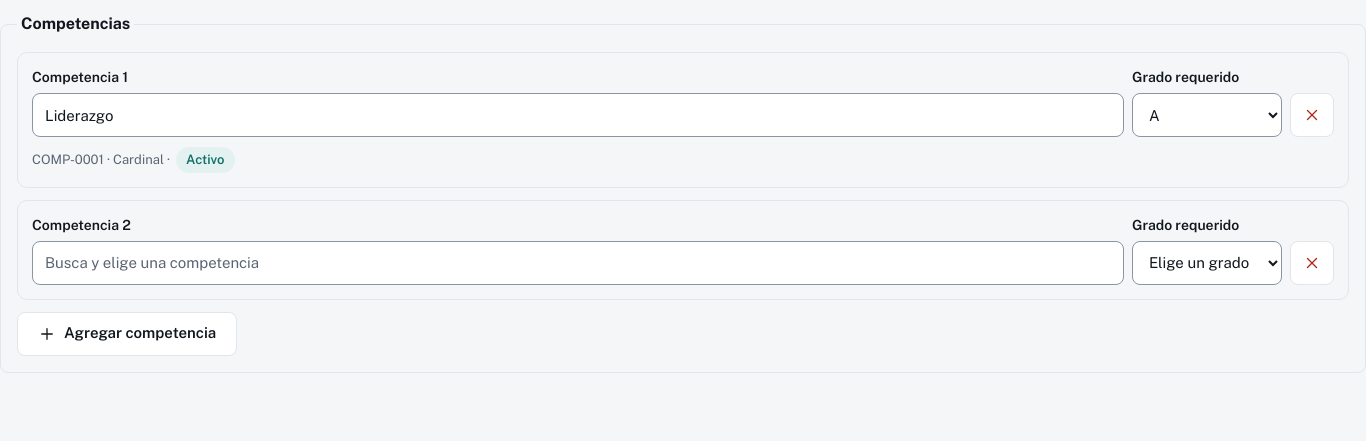
Scenario: CompetenciasFieldset › solo ofrece competencias activas que aún no están en el puesto
Click the dropdown labelled "Competencia 2" at (578, 262), box [32,240,1124,284]
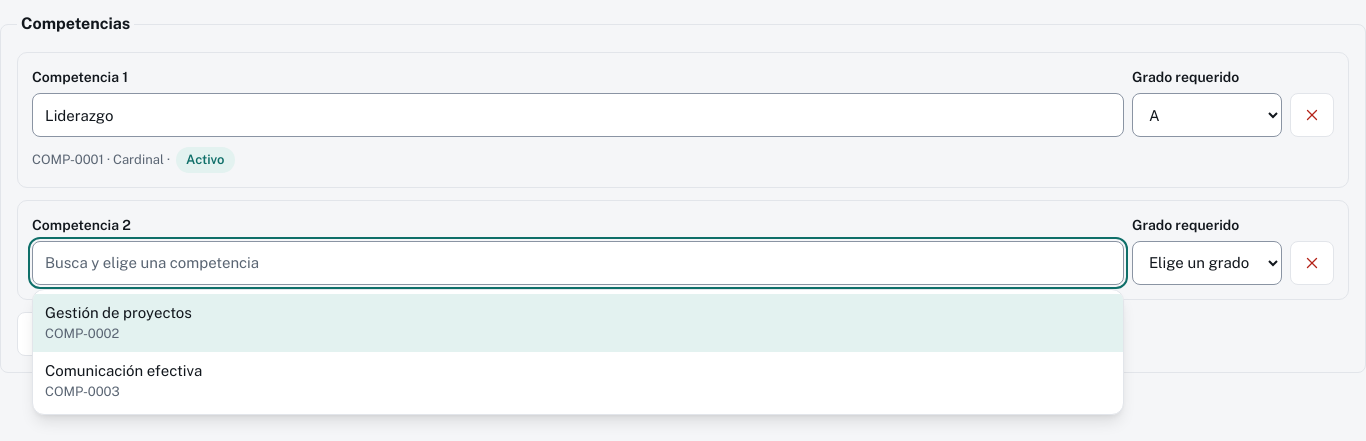
Expected: the options read "Gestión de proyectosCOMP-0002", "Comunicación efectivaCOMP-0003", in this order, [33,294,1123,352]; [45,362,202,399]
